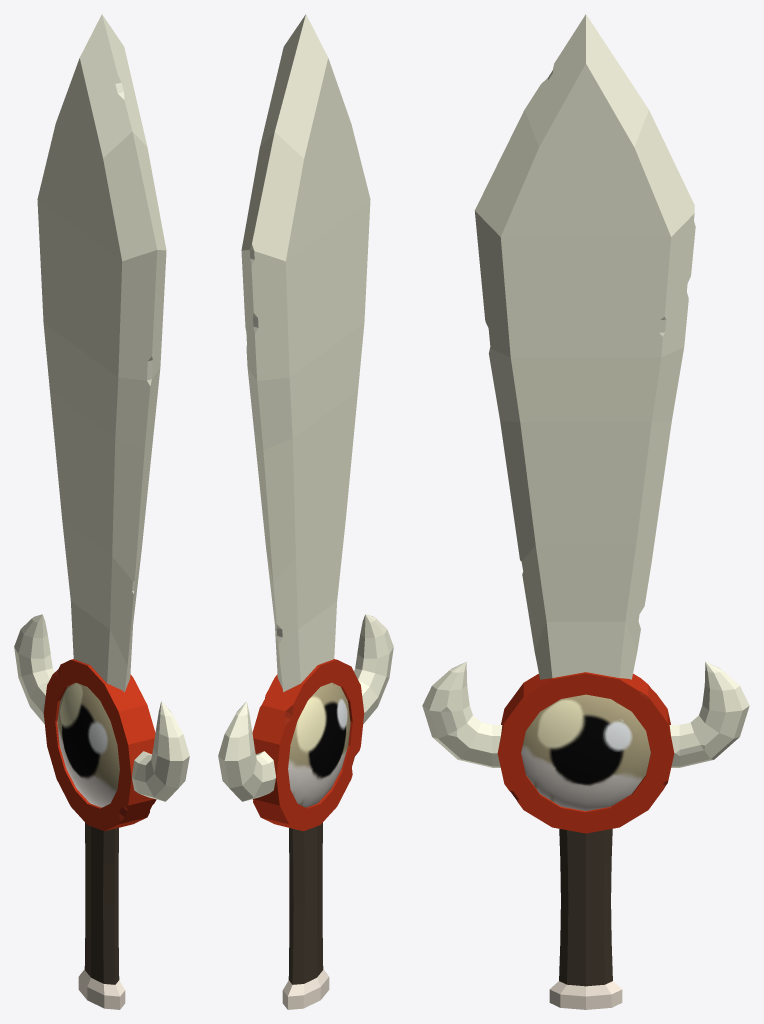
File: Sword (3).fbx
3 views of the same model, side by side, from view 1: azimuth 30°, elevation 25°; view 2: azimuth 150°, elevation 25°; view 3: azimuth 270°, elevation 25° (orthographic).
Visible parts, largest first — view 1: Demon_Sword; view 2: Demon_Sword; view 3: Demon_Sword.
Part boxes in pixels (x1,y1,x2,y2): Demon_Sword: (14, 14, 189, 1009); Demon_Sword: (218, 14, 393, 1009); Demon_Sword: (422, 14, 749, 1009).
Bounding box in the file's own units: 7.47 × 140 × 42.01.
